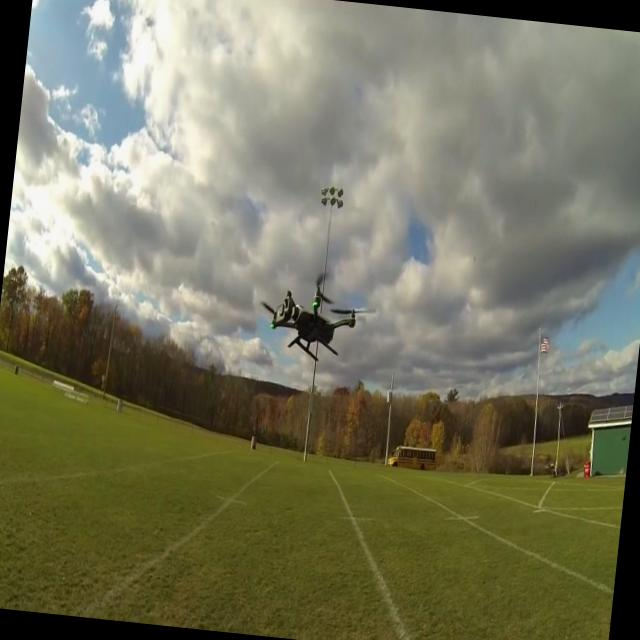drone: (253, 262, 377, 370)
